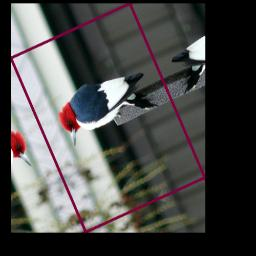Woodpecker: (48, 58, 162, 150)
